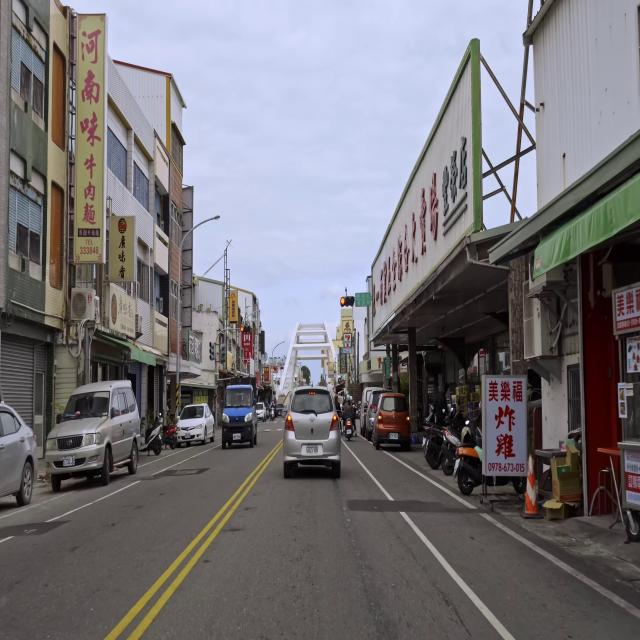red light: (340, 296, 355, 308), (240, 326, 251, 333)
